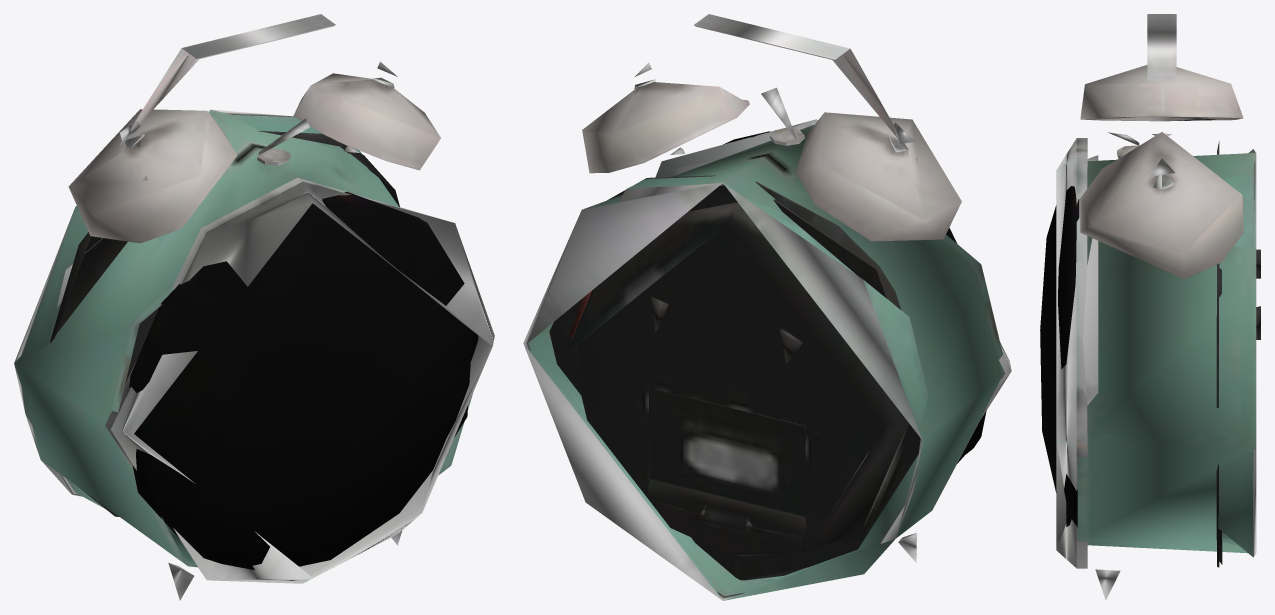
The model's file is alarmclock.glb.
3 renders of one model, left to right at view 1: azimuth 30°, elevation 25°; view 2: azimuth 150°, elevation 25°; view 3: azimuth 270°, elevation 25°, orthographic. The views are drawn at different scales.
Visible parts, largest first — view 1: alarm_clock_01; view 2: alarm_clock_01; view 3: alarm_clock_01.
Part boxes in pixels (box(x1,y1,x2,y2)): alarm_clock_01: box(14, 14, 494, 600); alarm_clock_01: box(523, 14, 1011, 600); alarm_clock_01: box(1040, 14, 1260, 600).
Bounding box in the file's own units: 0.1312 × 0.1658 × 0.0655.
Materials: 2 (2 with a texture image).
